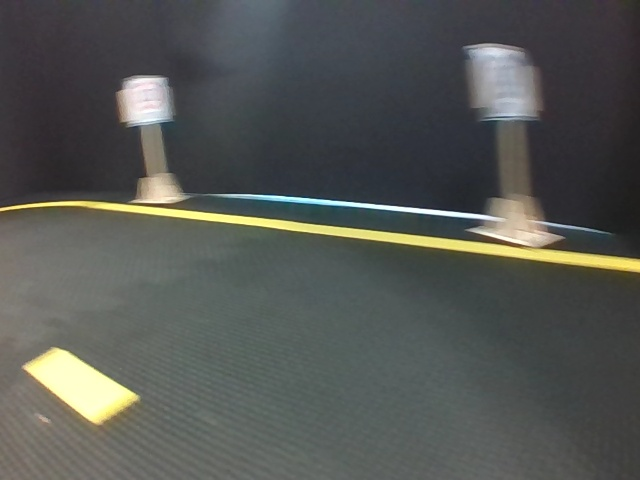30: (125, 77, 170, 123)
no30: (473, 47, 536, 117)
